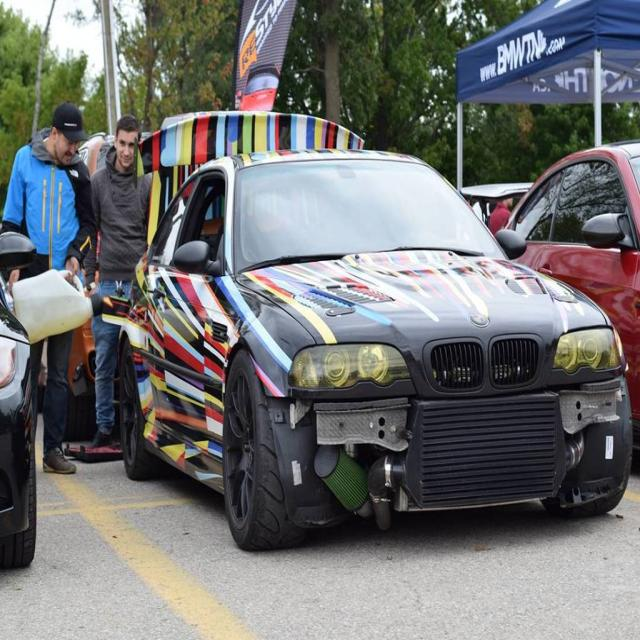car: (102, 124, 636, 546)
